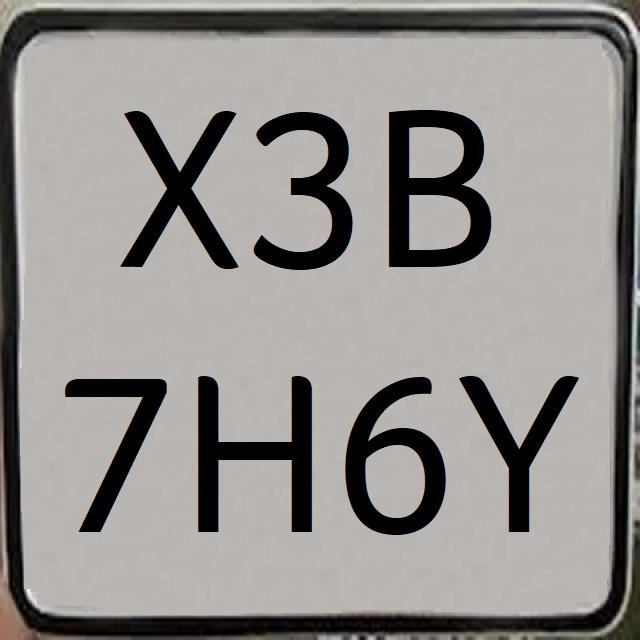3: (251, 101, 358, 280)
B: (383, 100, 495, 278)
G: (341, 354, 445, 542)
H: (195, 362, 320, 546)
X: (114, 91, 242, 279)
Y: (465, 358, 586, 550)
